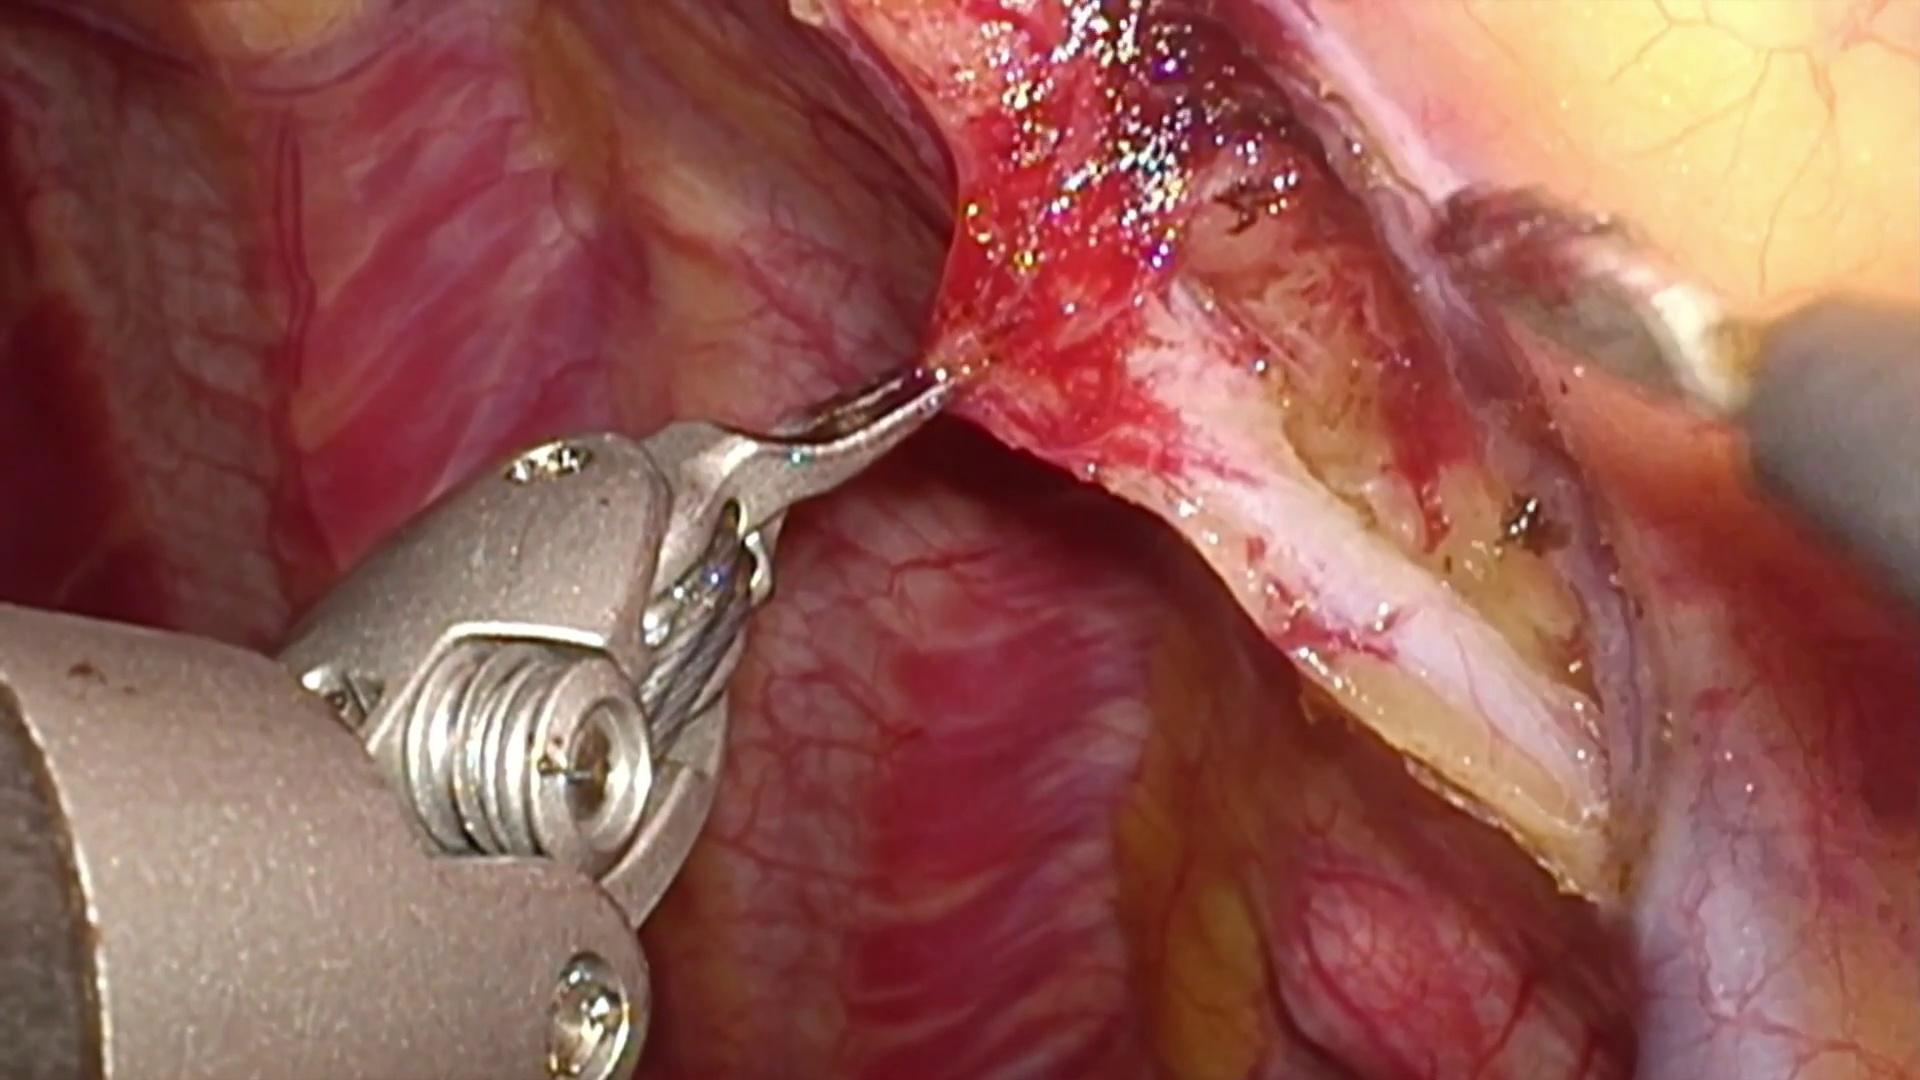Cautery_Spatula: (1437, 182, 1920, 613)
Debakey: (650, 316, 982, 570)
